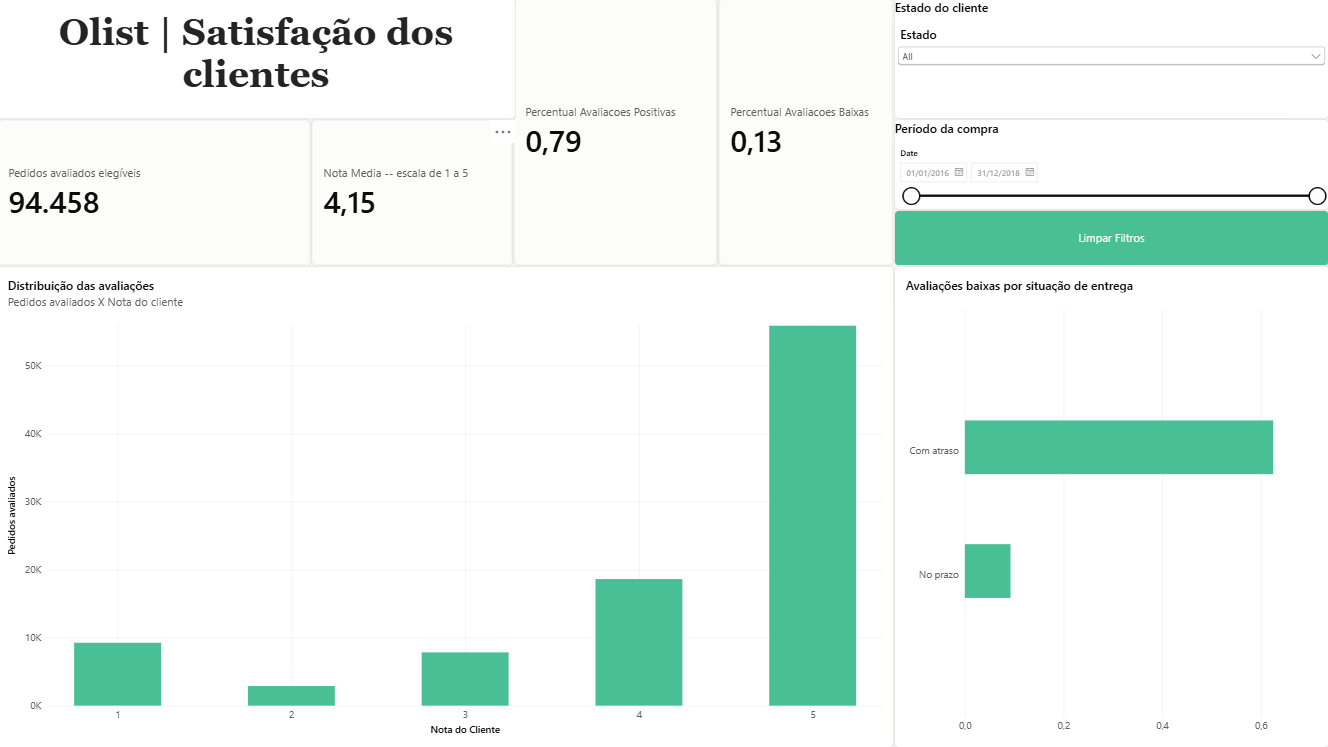

The dashboard page shown, as its layout file describes it:
{"tool":"powerbi","page":{"name":"Satisfação","canvas":[1920,1080],"ordinal":2},"visuals":[{"type":"cardVisual","fields":{"Data":["FatoPedidos.Pedidos Avaliados"]},"box":[0,174.3,453.7,211.7],"z":0},{"type":"cardVisual","fields":{"Data":["FatoPedidos.Percentual Avaliacoes Positivas"]},"box":[744.7,0,295.3,386],"z":1000},{"type":"cardVisual","fields":{"Data":["FatoPedidos.Percentual Avaliacoes Baixas"]},"box":[1039.9,0,253.5,386],"z":2000},{"type":"clusteredColumnChart","title":"Distribuição das avaliações","fields":{"Category":["FatoPedidos.review_score"],"Y":["FatoPedidos.Pedidos Avaliados"]},"box":[0,386,1293.4,694.3],"z":3000},{"type":"slicer","title":"Período da compra","fields":{"Values":["Calendario.Date"]},"box":[1293.4,174.3,626.6,131.1],"z":4000},{"type":"slicer","title":"Estado do cliente","fields":{"Values":["FatoPedidos.customer_state"]},"box":[1293.4,0,626.6,174.3],"z":5000},{"type":"clusteredBarChart","title":"Avaliações baixas por situação de entrega","fields":{"Category":["FatoPedidos.Situacao Entrega Avaliada"],"Y":["FatoPedidos.Percentual Avaliacoes Baixas"]},"box":[1293.4,386,626.6,694.3],"z":6000},{"type":"cardVisual","fields":{"Data":["FatoPedidos.Nota Media"]},"box":[453.7,174.3,291,211.7],"z":7000},{"type":"textbox","box":[0,0,749,174.3],"z":8000},{"type":"actionButton","box":[1293.4,305.4,626.6,80.7],"z":9000}]}

Visuals, with their boxes in screenshot pixels (x1, y1, x2, y2), scaled from the page's 1920x1080 canvas onto the 1328x747 screenshot:
cardVisual - FatoPedidos.Pedidos Avaliados: box(0, 121, 314, 267)
cardVisual - FatoPedidos.Percentual Avaliacoes Positivas: box(515, 0, 719, 267)
cardVisual - FatoPedidos.Percentual Avaliacoes Baixas: box(719, 0, 895, 267)
"Distribuição das avaliações" clusteredColumnChart: box(0, 267, 895, 746)
"Período da compra" slicer: box(895, 121, 1327, 211)
"Estado do cliente" slicer: box(895, 0, 1327, 121)
"Avaliações baixas por situação de entrega" clusteredBarChart: box(895, 267, 1327, 746)
cardVisual - FatoPedidos.Nota Media: box(314, 121, 515, 267)
textbox: box(0, 0, 518, 121)
actionButton: box(895, 211, 1327, 267)
